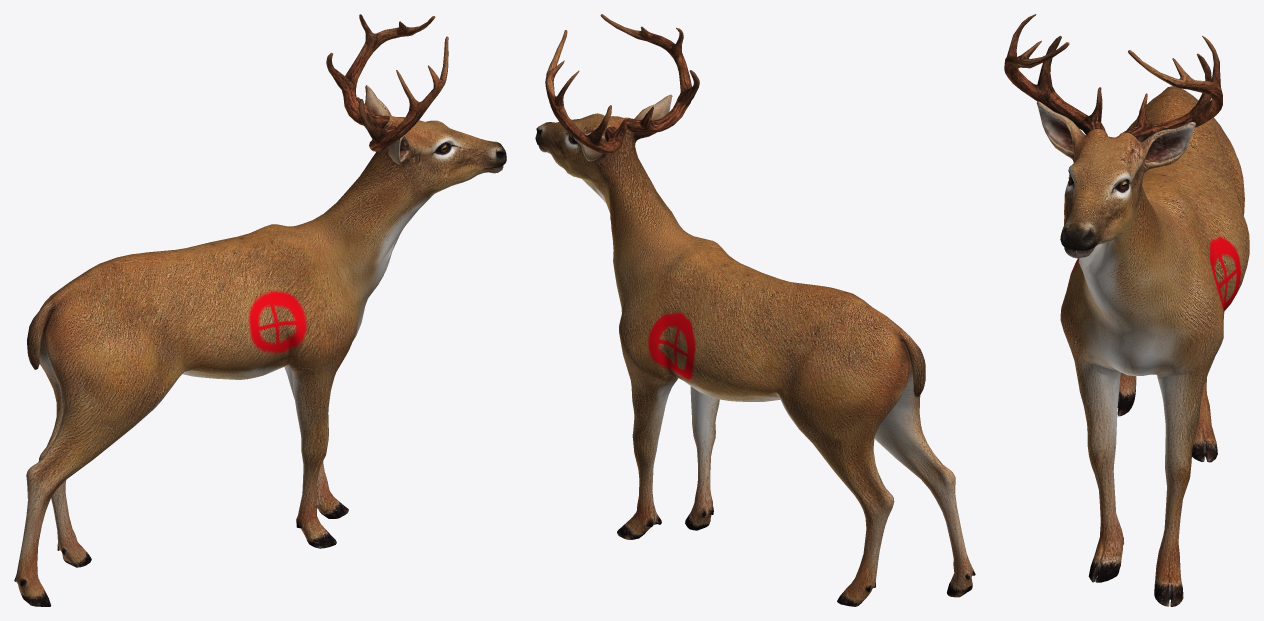
Rendered from bok.glb.
3 renders of one model, left to right at view 1: azimuth 30°, elevation 25°; view 2: azimuth 150°, elevation 25°; view 3: azimuth 270°, elevation 25°, orthographic. The views are drawn at different scales.
Visible parts, largest first — view 1: deer.002; view 2: deer.002; view 3: deer.002.
Boxes of the visible parts, bbox=[...] form: deer.002: bbox=[14, 14, 506, 606]; deer.002: bbox=[535, 14, 975, 606]; deer.002: bbox=[1004, 14, 1249, 606].
Bounding box in the file's own units: 0.9538 × 0.9561 × 0.3541.
Materials: 1 (1 with a texture image).
